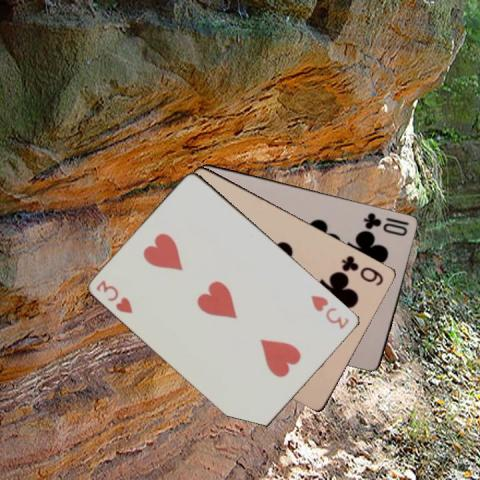10c: (360, 210, 410, 238)
3h: (308, 292, 351, 331), (93, 277, 135, 315)
6c: (339, 252, 385, 287)
